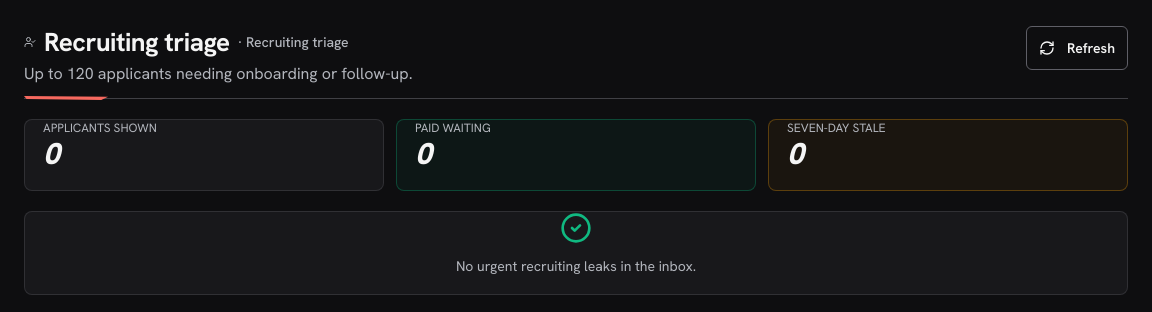
Test: Recruiting triage verified reads › does not turn a failed refresh of an empty response into a new all-clear
Expected: the text "No urgent recruiting leaks in the inbox." is shown, [456,212,696,275]
Step 1. Click the button "Refresh" → coordinates (1077, 48), box [1026,26,1128,70]
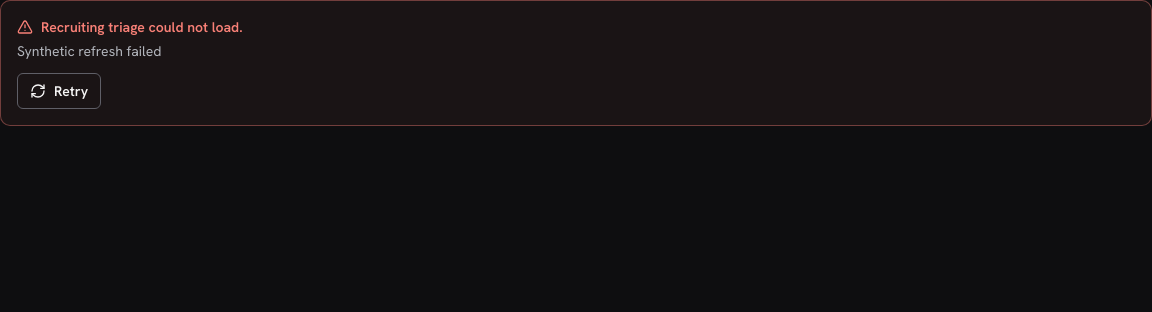
Now the message shows "Synthetic refresh failed", box [17,42,161,60]
Now the text "No urgent recruiting leaks in the inbox." is gone
